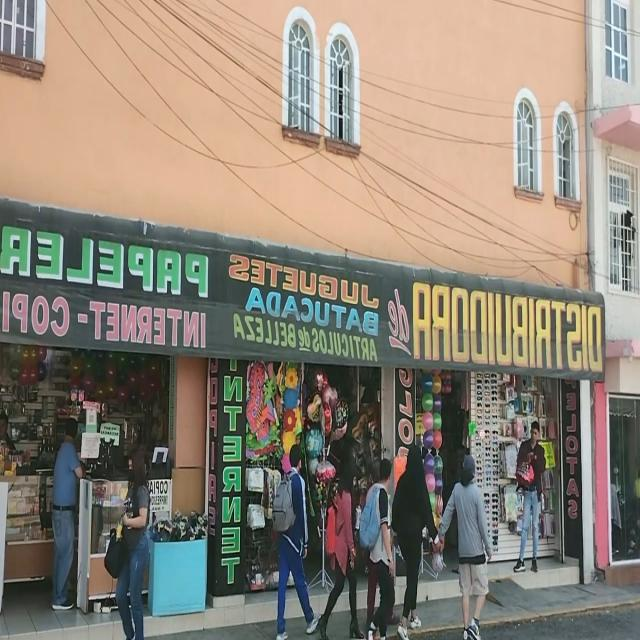adult: (390, 435, 438, 640), (438, 451, 489, 640), (318, 451, 360, 640), (277, 442, 315, 640), (115, 441, 152, 640), (49, 418, 80, 610), (364, 458, 395, 640), (512, 420, 546, 573)
